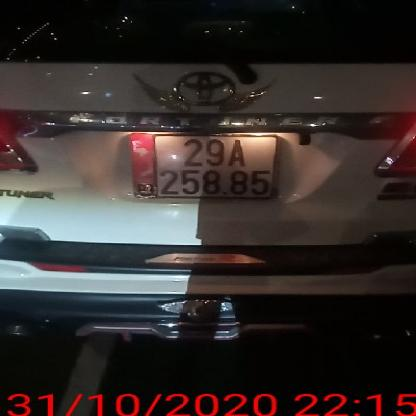biensoxe: (126, 129, 281, 197)
